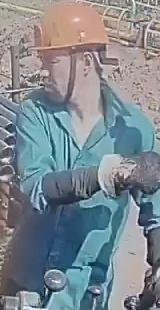gloves: (92, 149, 160, 200)
helmet: (27, 2, 109, 53)
vest: (16, 91, 158, 283)
